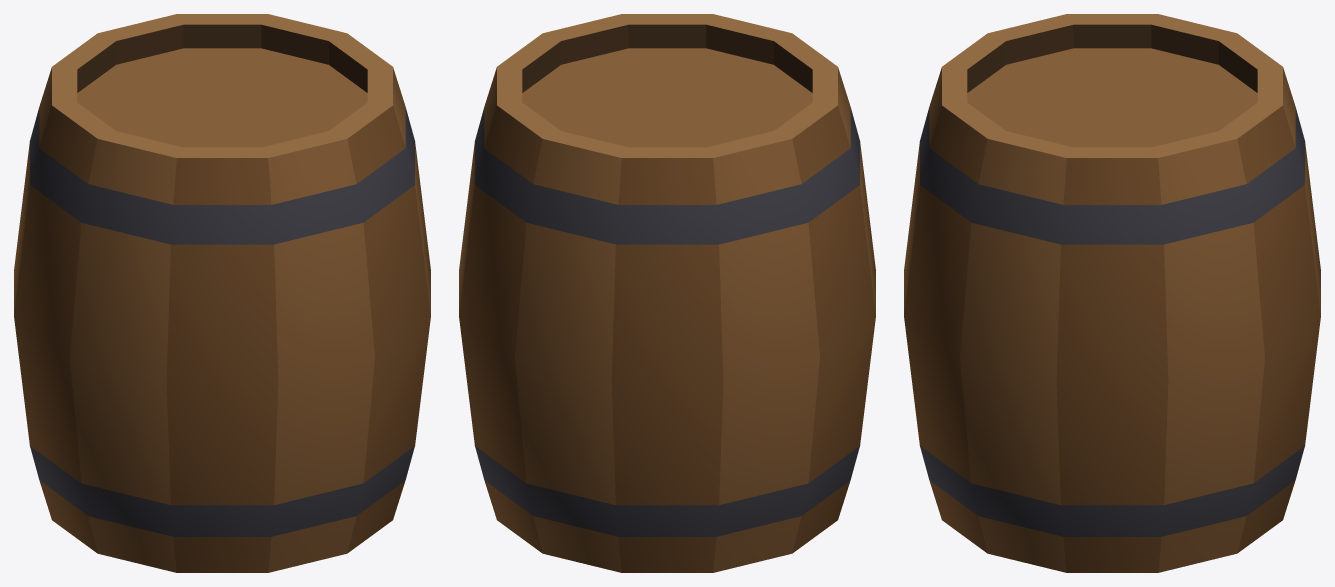
Rendered from barrel.glb.
The picture shows the model from 3 angles, left to right: view 1: azimuth 30°, elevation 25°; view 2: azimuth 150°, elevation 25°; view 3: azimuth 270°, elevation 25°; orthographic projection.
Visible parts, largest first — view 1: Barrel; view 2: Barrel; view 3: Barrel.
Part boxes in pixels (left/top/right/bottom): Barrel: left=14, top=14, right=430, bottom=572; Barrel: left=459, top=14, right=875, bottom=572; Barrel: left=904, top=14, right=1320, bottom=572.
Bounding box in the file's own units: 0.6375 × 0.7 × 0.6375.
